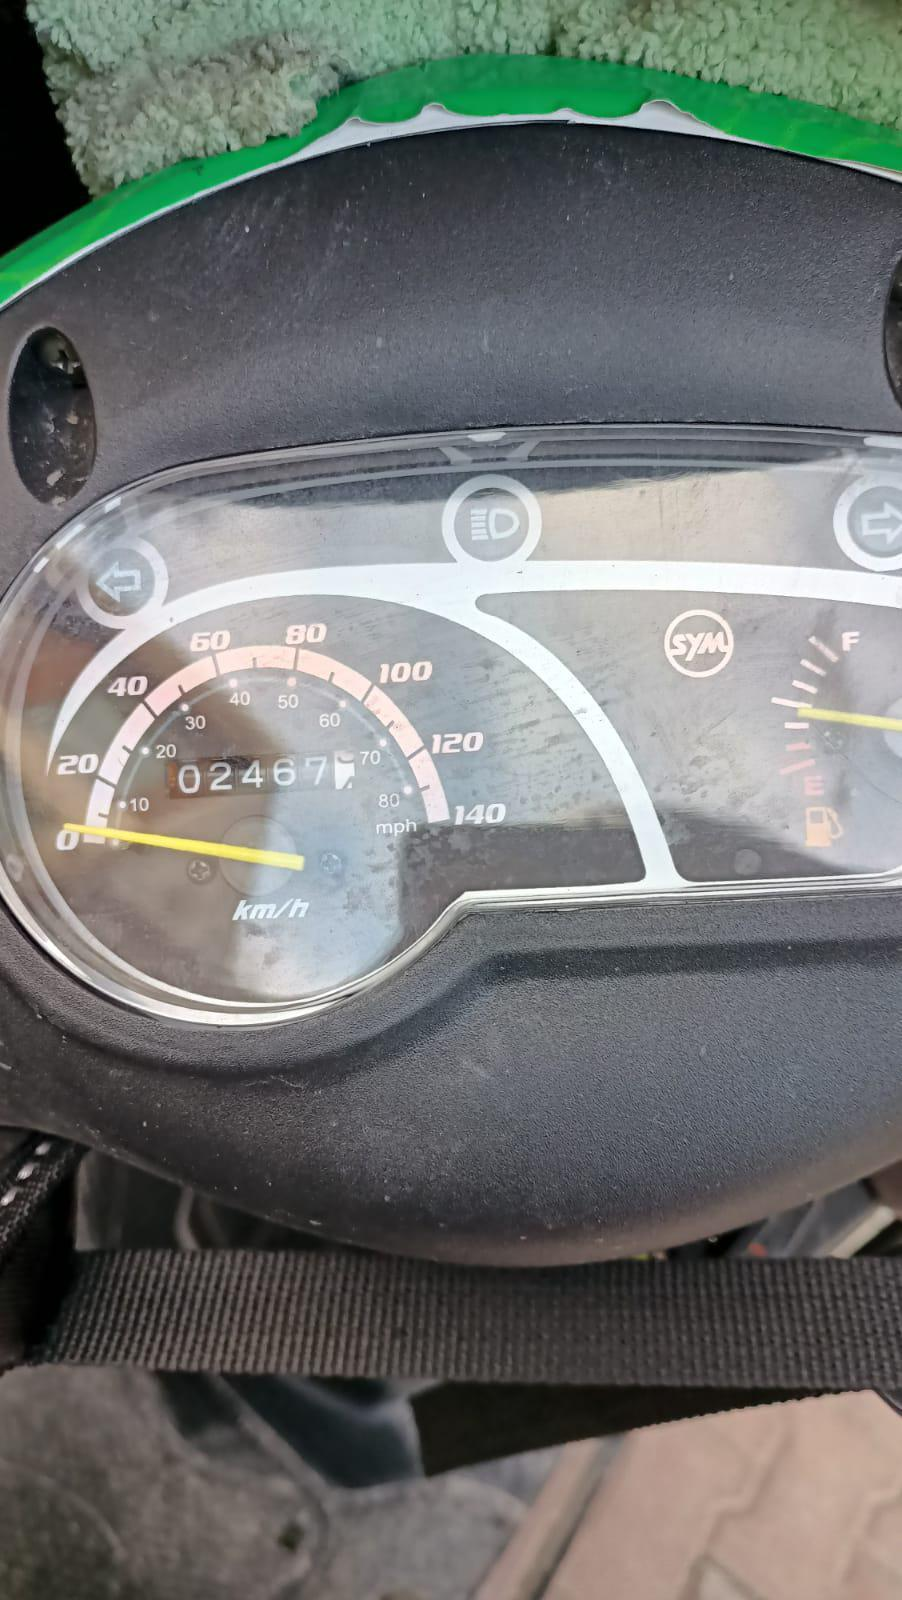0: (178, 760, 202, 795)
2: (207, 758, 232, 792)
4: (240, 757, 264, 789), (337, 771, 357, 795)
6: (271, 755, 297, 785)
7: (304, 752, 328, 786)
odometer: (175, 748, 360, 801)
